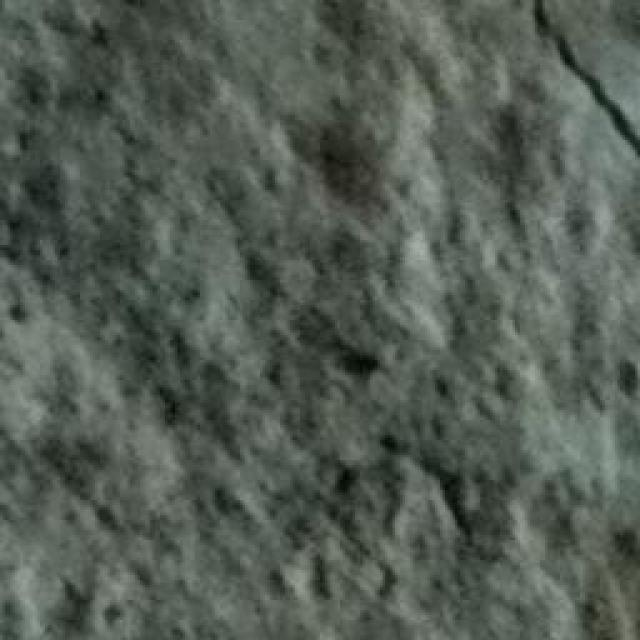Diagonal: (491, 0, 640, 169)
Rippled: (9, 0, 434, 629)
